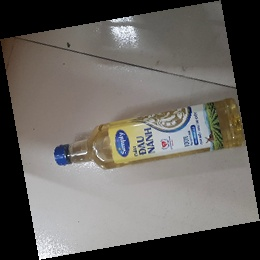Simply: (50, 97, 246, 170)
